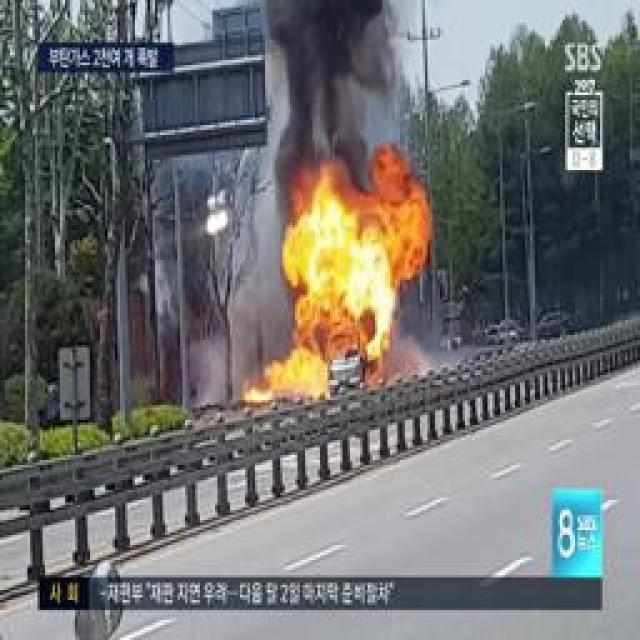Fire: (286, 214, 399, 349), (255, 356, 327, 402)
